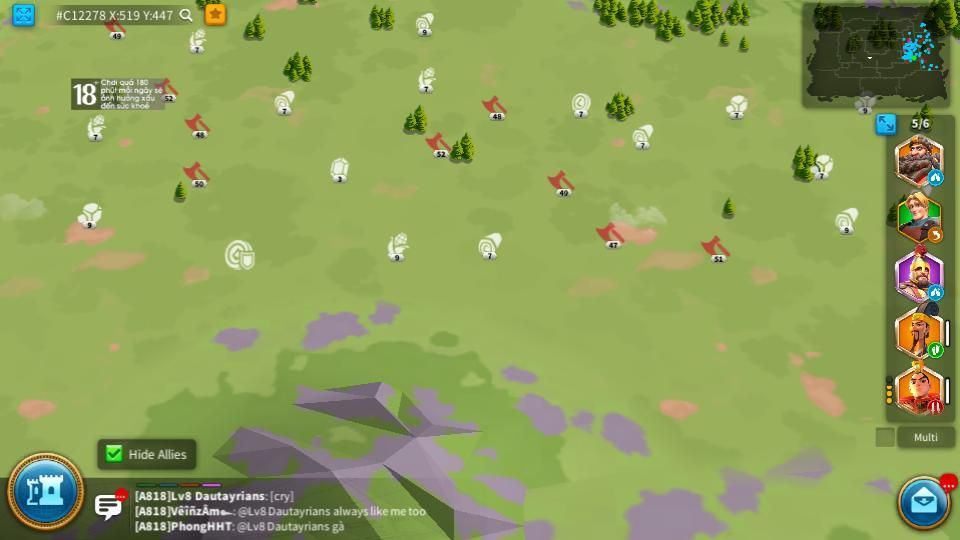gem-z-out: (330, 157, 350, 181)
march_attacking: (927, 402, 945, 414)
march_idle: (929, 172, 943, 185), (929, 284, 942, 297)
march_marching: (928, 345, 942, 358)
march_returning: (929, 229, 942, 241)
